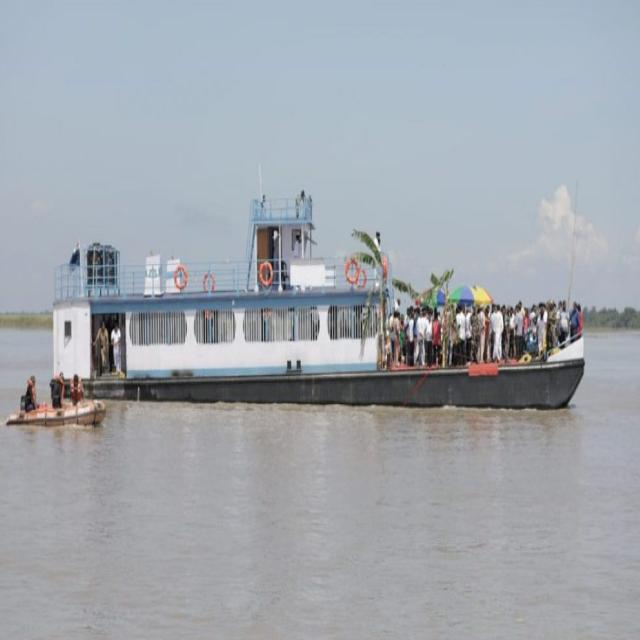houseboat: (46, 151, 592, 440)
